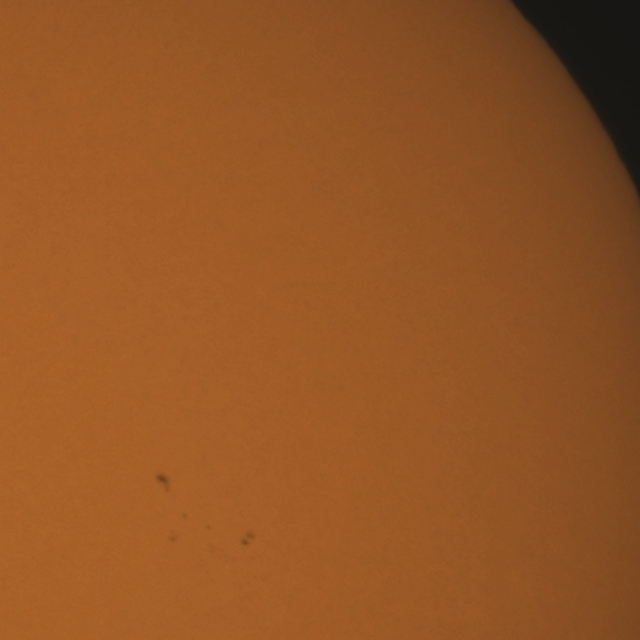sunspot: (153, 472, 172, 494), (239, 528, 256, 548), (167, 530, 179, 544)
